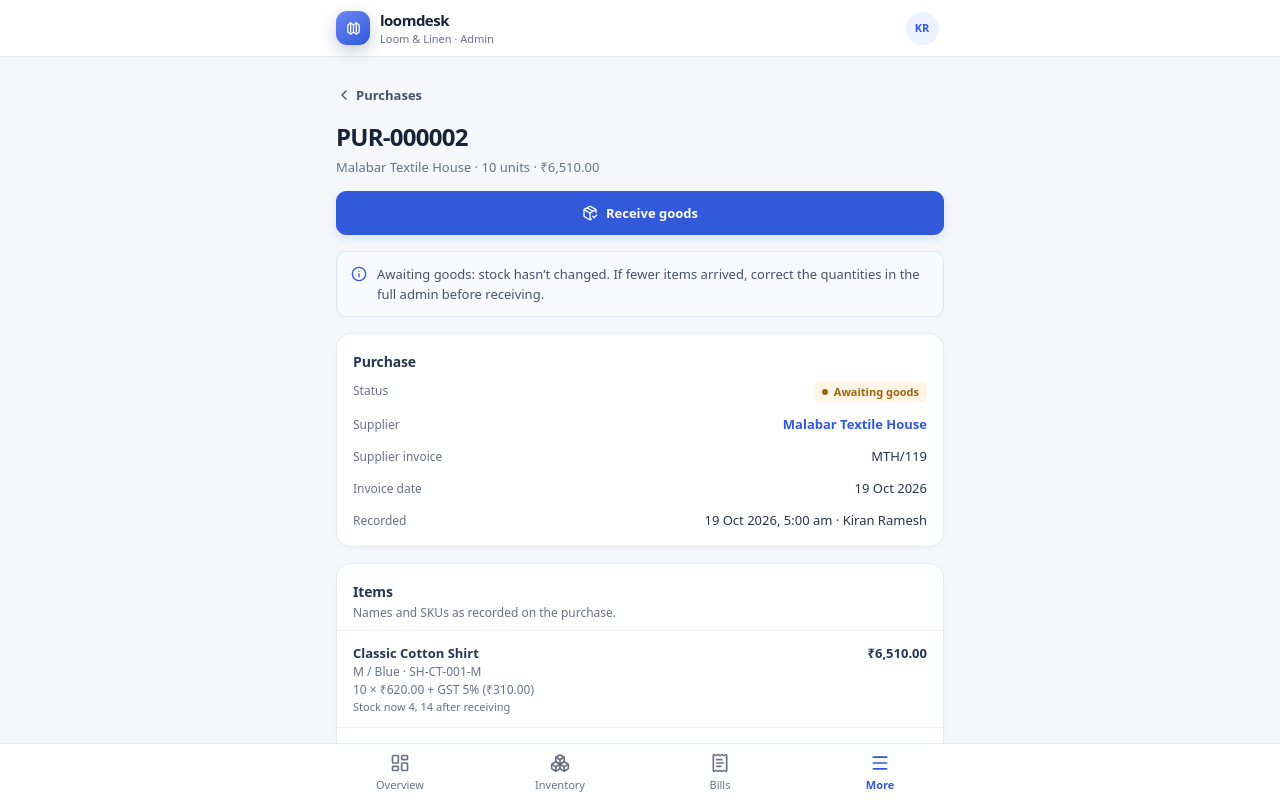
it: mobile purchasing › reports a purchase another device already received, without adding stock again
Click the button "Receive goods" at (640,213), box [336, 191, 944, 235]
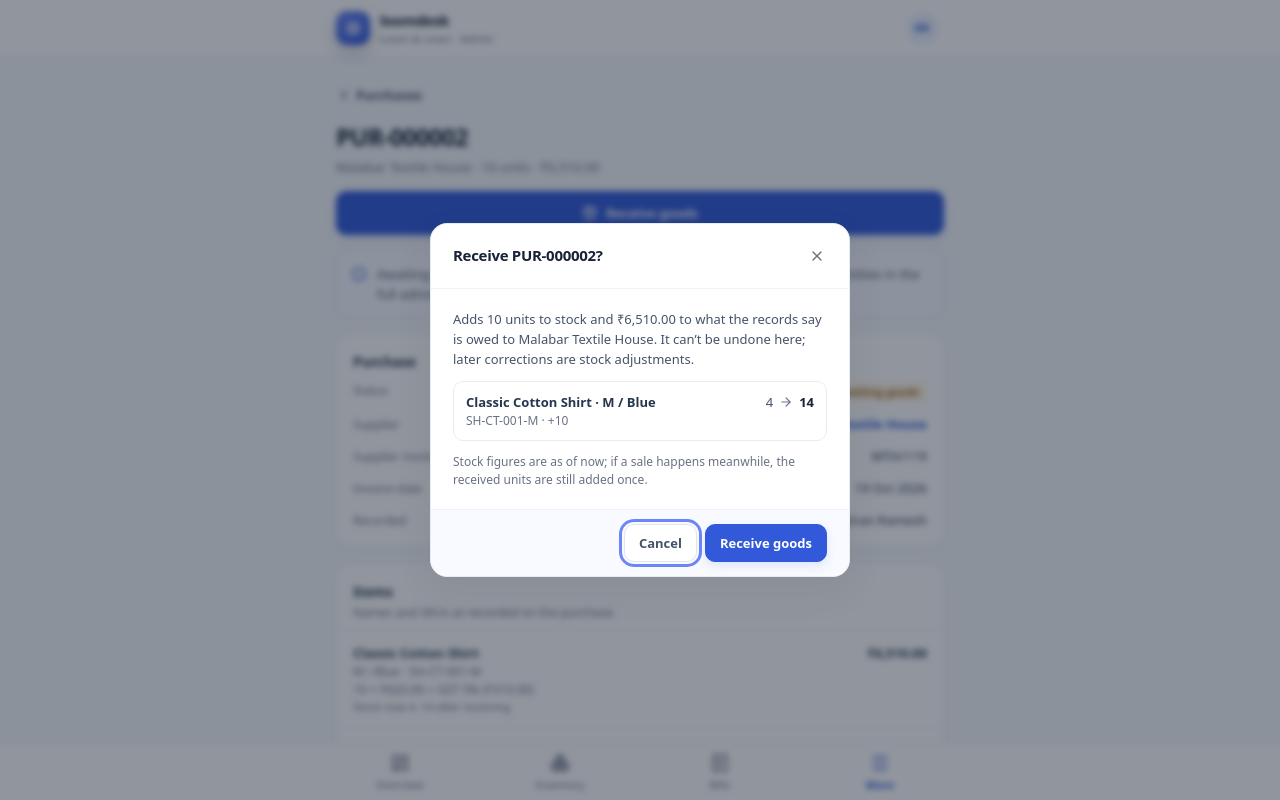
Click the button "Receive goods" at (766,543), box [705, 524, 827, 562]
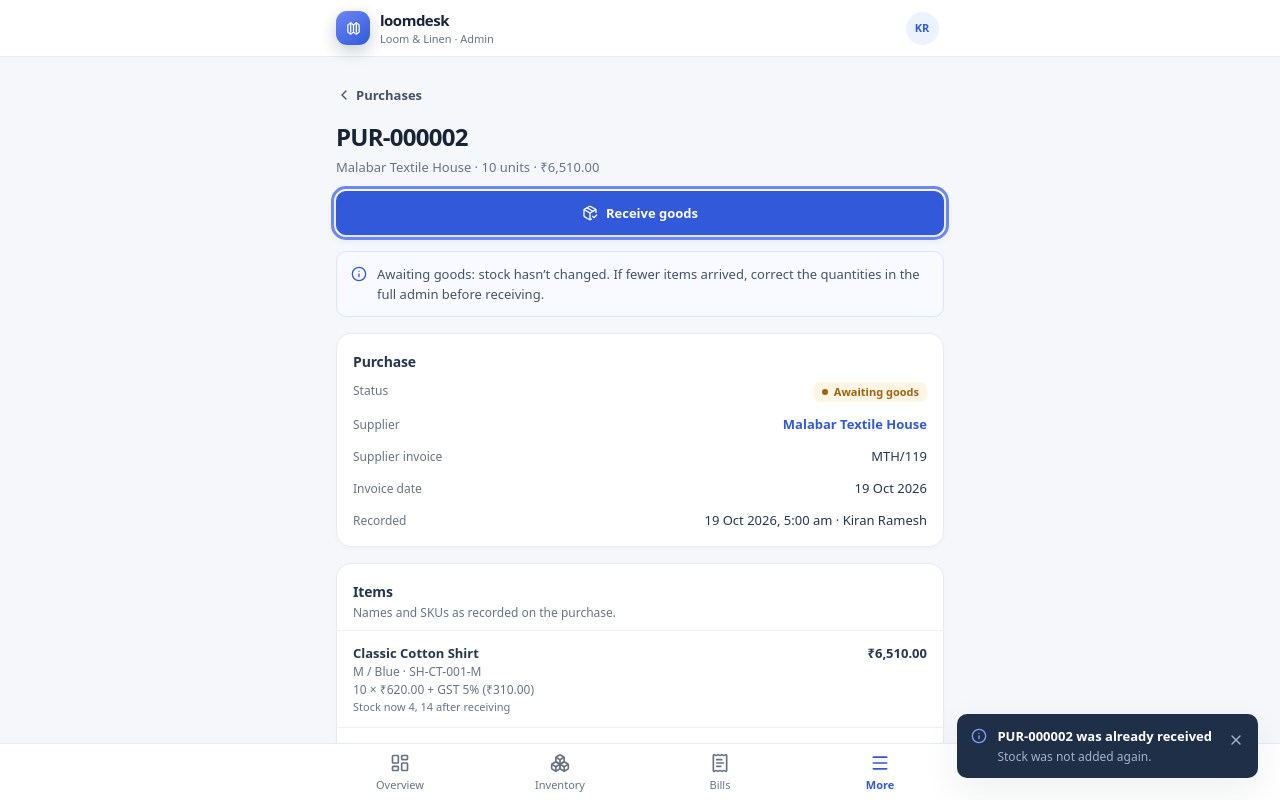
Now the text "Stock was not added again." is shown, box [998, 748, 1152, 765]
